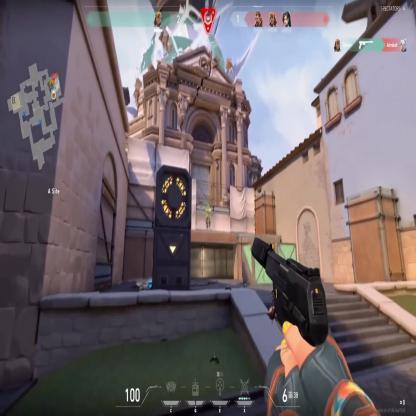enemy: (205, 206, 211, 228)
enemy_head: (207, 206, 210, 210)
